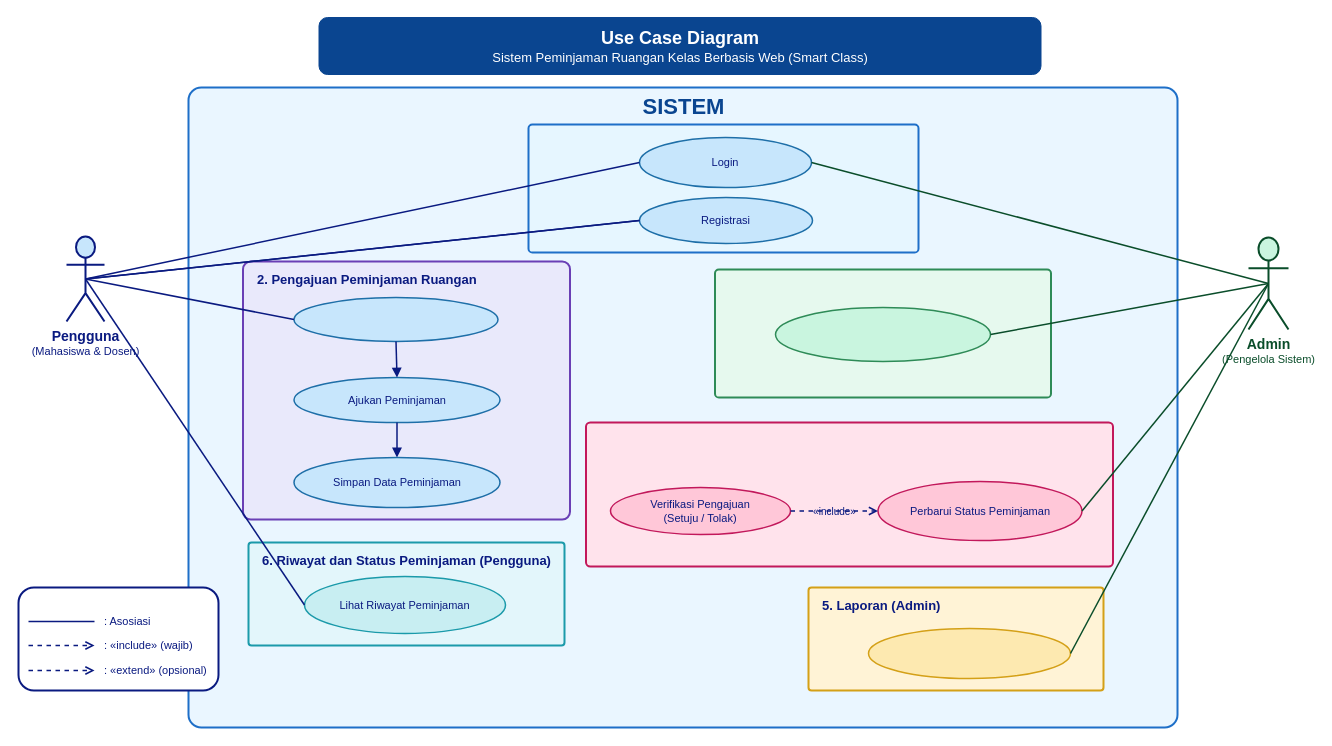
Image size: 1332x746. Some labels were removed from this diagram. The shapes that lost their labels are listed below. From the top down, each one's box as (x1, y1, x2, y2) in pixels, then its label:
(527, 123, 919, 253): 1. Autentikasi
(293, 296, 498, 342): Cek Ketersediaan Ruangan
(774, 306, 991, 362): Kelola Ruangan
(714, 268, 1052, 398): 3. Manajemen Ruangan
(584, 421, 1114, 567): 4. Verifikasi dan Monitoring Peminjaman (Admin)
(17, 586, 219, 691): Keterangan :
(867, 627, 1071, 679): Lihat Laporan Peminjaman
